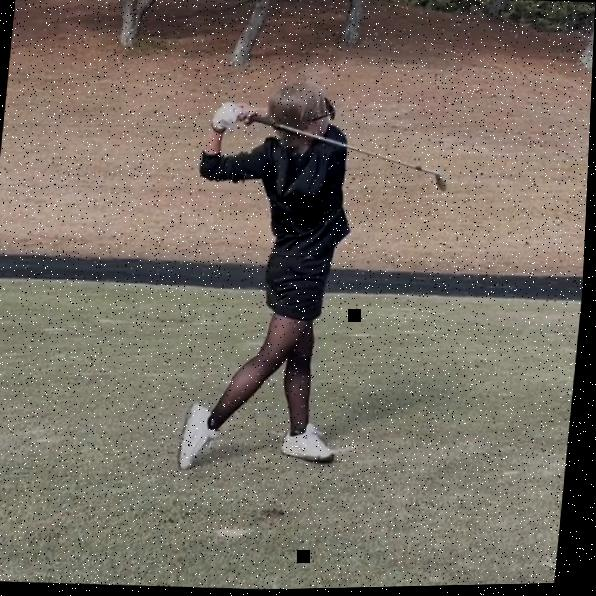ClubHead: (434, 175, 449, 197)
